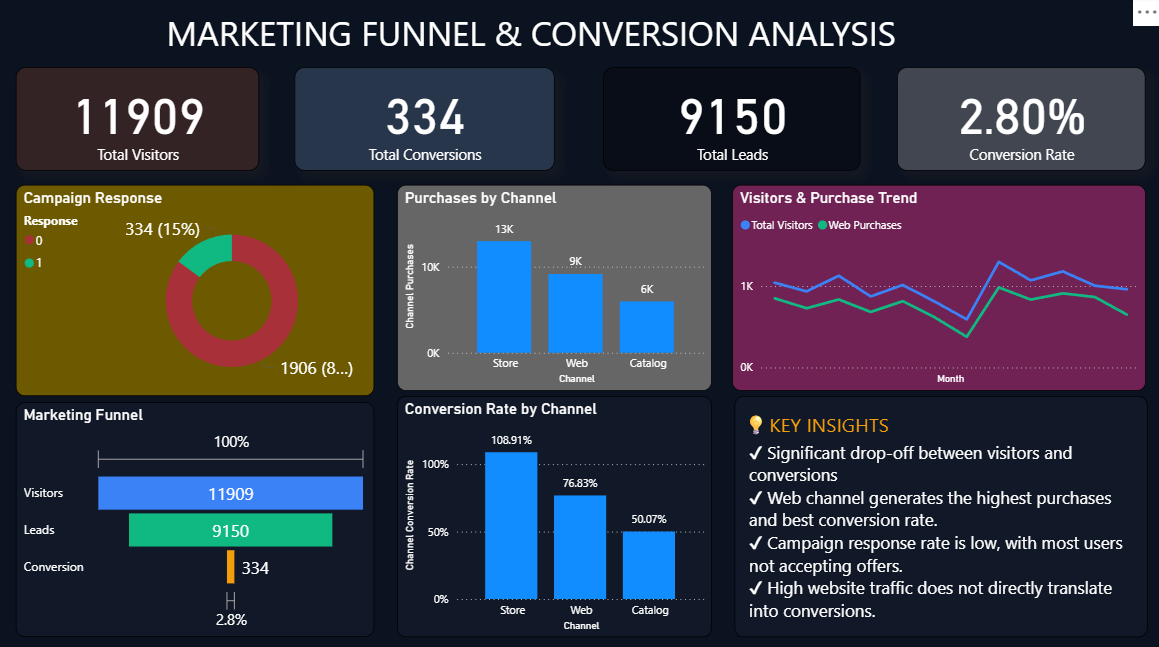

What the dashboard file says about the page in this screenshot:
{"tool":"powerbi","page":{"name":"Page 1","canvas":[1280,720],"ordinal":0},"visuals":[{"type":"shape","box":[0,0,1280.3,720.4],"z":0},{"type":"textbox","box":[181.1,9.6,834.3,61.7],"z":1000},{"type":"card","fields":{"Values":["Sheet1.Total Visitors"]},"box":[20.6,78.2,267.6,113.9],"z":2000},{"type":"card","fields":{"Values":["Sheet1.Total Leads"]},"box":[665.5,78.2,282.7,113.9],"z":3000},{"type":"card","fields":{"Values":["Sheet1.Total Conversions"]},"box":[326.6,78.2,285.4,113.9],"z":4000},{"type":"card","fields":{"Values":["Sheet1.Conversion Rate"]},"box":[988,78.2,273.1,113.9],"z":5000},{"type":"funnel","title":"Marketing Funnel","fields":{"Y":["Sheet1.Total Visitors","Sheet1.Total Leads","Sheet1.Total Conversions"]},"box":[20,446.1,393.4,258],"z":6000},{"type":"clusteredColumnChart","title":"Purchases by Channel","fields":{"Category":["Channel.Channel"],"Y":["Channel.Channel Purchases"]},"box":[439.1,207.2,345.8,226.4],"z":7000},{"type":"lineChart","title":"Visitors & Purchase Trend","fields":{"Y":["Sheet1.Total Visitors","Sheet1.Web Purchases"],"Category":["Sheet1.Dt_Customer.Variation.Date Hierarchy.Month"]},"box":[806.8,206.7,454.7,226.6],"z":8000},{"type":"clusteredColumnChart","title":"Conversion Rate by Channel","fields":{"Category":["Channel.Channel"],"Y":["Channel.Channel Conversion Rate"]},"box":[439.1,439.1,345.8,264.8],"z":9000},{"type":"donutChart","title":"Campaign Response","fields":{"Category":["Sheet1.Response"],"Y":["CountNonNull(Sheet1.ID)"]},"box":[20,206.7,393.4,232.3],"z":10000},{"type":"shape","box":[809.6,439,453.3,265.1],"z":10500,"group":"g1"},{"type":"textbox","box":[813.3,450,311.5,45.5],"z":11000,"group":"g1"},{"type":"textbox","box":[821.1,483.3,433.3,213.8],"z":12000,"group":"g1"},{"type":"group","id":"g1","title":"Group 1","box":[809.6,439,453.3,265.1],"z":12001}]}

Visuals, with their boxes in screenshot pixels (x1, y1, x2, y2), scaled from the page's 1280x720 canvas onto the 1159x647 screenshot:
shape: [x1=0, y1=0, x2=1158, y2=646]
textbox: [x1=164, y1=9, x2=919, y2=64]
card - Sheet1.Total Visitors: [x1=19, y1=70, x2=261, y2=173]
card - Sheet1.Total Leads: [x1=603, y1=70, x2=859, y2=173]
card - Sheet1.Total Conversions: [x1=296, y1=70, x2=554, y2=173]
card - Sheet1.Conversion Rate: [x1=895, y1=70, x2=1142, y2=173]
"Marketing Funnel" funnel: [x1=18, y1=401, x2=374, y2=633]
"Purchases by Channel" clusteredColumnChart: [x1=398, y1=186, x2=711, y2=390]
"Visitors & Purchase Trend" lineChart: [x1=731, y1=186, x2=1142, y2=389]
"Conversion Rate by Channel" clusteredColumnChart: [x1=398, y1=395, x2=711, y2=633]
"Campaign Response" donutChart: [x1=18, y1=186, x2=374, y2=394]
shape: [x1=733, y1=394, x2=1144, y2=633]
textbox: [x1=736, y1=404, x2=1018, y2=445]
textbox: [x1=743, y1=434, x2=1136, y2=626]
"Group 1" group: [x1=733, y1=394, x2=1144, y2=633]
